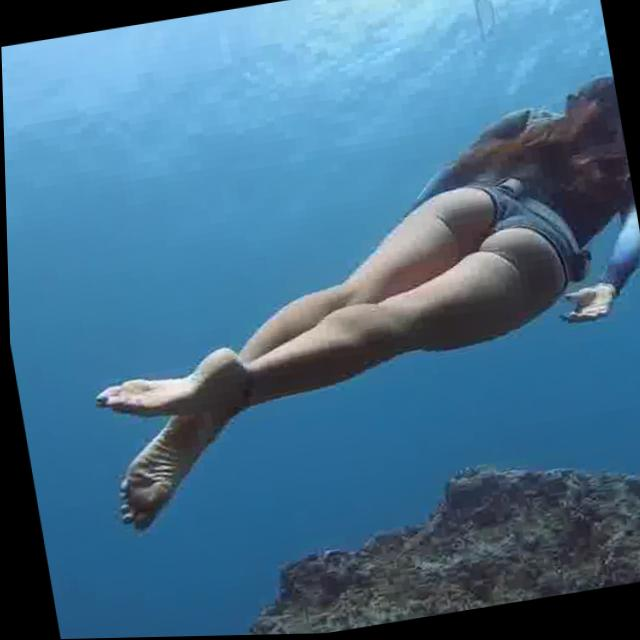human: (34, 57, 640, 547)
